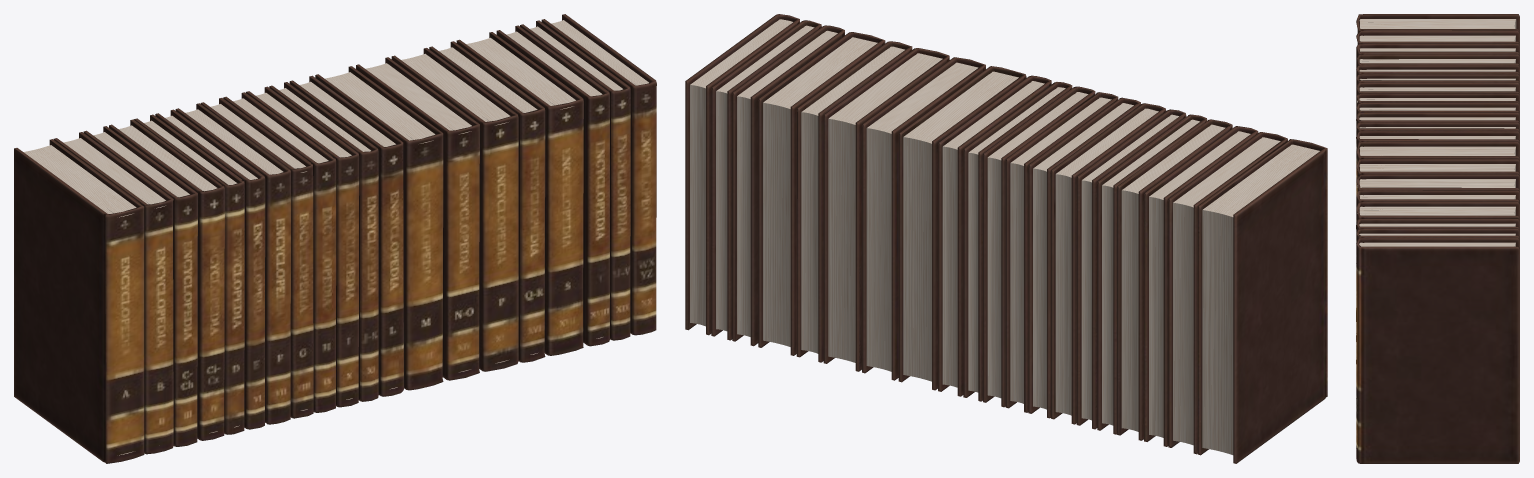
The model's file is book_encyclopedia_set_01_lod2.glb.
The picture shows the model from 3 angles, left to right: view 1: azimuth 30°, elevation 25°; view 2: azimuth 150°, elevation 25°; view 3: azimuth 270°, elevation 25°; orthographic projection. The views are drawn at different scales.
Visible parts, largest first — view 1: book_encyclopedia_set_01_book01, book_encyclopedia_set_01_book13, book_encyclopedia_set_01_book15, book_encyclopedia_set_01_book17, book_encyclopedia_set_01_book14, book_encyclopedia_set_01_book02, book_encyclopedia_set_01_book04, book_encyclopedia_set_01_book16, book_encyclopedia_set_01_book20, book_encyclopedia_set_01_book18, book_encyclopedia_set_01_book07, book_encyclopedia_set_01_book12 (+8 smaller); view 2: book_encyclopedia_set_01_book01, book_encyclopedia_set_01_book13, book_encyclopedia_set_01_book17, book_encyclopedia_set_01_book15, book_encyclopedia_set_01_book14, book_encyclopedia_set_01_book02, book_encyclopedia_set_01_book16, book_encyclopedia_set_01_book04, book_encyclopedia_set_01_book18, book_encyclopedia_set_01_book20, book_encyclopedia_set_01_book07, book_encyclopedia_set_01_book12 (+8 smaller); view 3: book_encyclopedia_set_01_book20, book_encyclopedia_set_01_book13, book_encyclopedia_set_01_book01, book_encyclopedia_set_01_book17, book_encyclopedia_set_01_book15, book_encyclopedia_set_01_book14, book_encyclopedia_set_01_book02, book_encyclopedia_set_01_book16, book_encyclopedia_set_01_book03, book_encyclopedia_set_01_book12, book_encyclopedia_set_01_book09, book_encyclopedia_set_01_book07 (+8 smaller).
Boxes of the visible parts, x1,y1,x2,y2 form: book_encyclopedia_set_01_book01: (14, 139, 144, 463); book_encyclopedia_set_01_book13: (315, 66, 443, 390); book_encyclopedia_set_01_book15: (391, 48, 518, 371); book_encyclopedia_set_01_book17: (456, 32, 583, 355); book_encyclopedia_set_01_book14: (356, 57, 479, 380); book_encyclopedia_set_01_book02: (53, 132, 173, 454); book_encyclopedia_set_01_book04: (109, 119, 224, 440); book_encyclopedia_set_01_book16: (429, 41, 545, 362); book_encyclopedia_set_01_book20: (541, 14, 656, 335); book_encyclopedia_set_01_book18: (496, 25, 609, 346); book_encyclopedia_set_01_book07: (175, 103, 290, 424); book_encyclopedia_set_01_book12: (289, 75, 403, 396); book_encyclopedia_set_01_book01: (1197, 139, 1327, 463); book_encyclopedia_set_01_book13: (898, 66, 1026, 390); book_encyclopedia_set_01_book17: (758, 32, 885, 355); book_encyclopedia_set_01_book15: (823, 48, 949, 371); book_encyclopedia_set_01_book14: (862, 57, 985, 380); book_encyclopedia_set_01_book02: (1168, 132, 1287, 454); book_encyclopedia_set_01_book16: (796, 41, 912, 362); book_encyclopedia_set_01_book04: (1117, 119, 1232, 440); book_encyclopedia_set_01_book18: (732, 25, 844, 346); book_encyclopedia_set_01_book20: (685, 14, 799, 335); book_encyclopedia_set_01_book07: (1051, 103, 1166, 424); book_encyclopedia_set_01_book12: (938, 75, 1051, 396); book_encyclopedia_set_01_book20: (1356, 238, 1519, 463); book_encyclopedia_set_01_book13: (1356, 142, 1519, 363); book_encyclopedia_set_01_book01: (1356, 14, 1519, 32); book_encyclopedia_set_01_book17: (1356, 202, 1519, 220); book_encyclopedia_set_01_book15: (1356, 174, 1519, 191); book_encyclopedia_set_01_book14: (1356, 159, 1519, 175); book_encyclopedia_set_01_book02: (1356, 30, 1519, 45); book_encyclopedia_set_01_book16: (1356, 190, 1519, 221); book_encyclopedia_set_01_book03: (1356, 43, 1519, 57); book_encyclopedia_set_01_book12: (1356, 131, 1519, 194); book_encyclopedia_set_01_book09: (1356, 102, 1519, 321); book_encyclopedia_set_01_book07: (1356, 82, 1519, 105).
Bounding box in the file's own units: 0.5513 × 0.2374 × 0.1631.
Materials: 2 (2 with a texture image).
